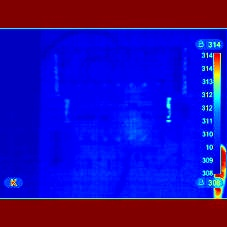Less: (181, 146, 227, 194)
